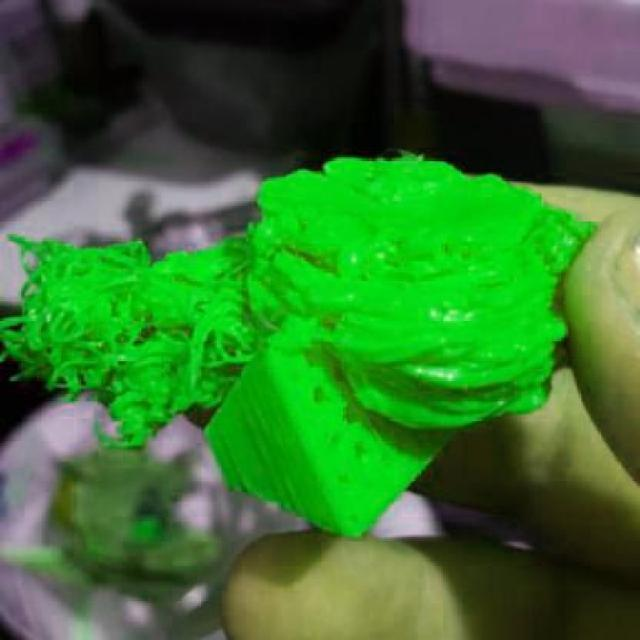Spaghetti: (5, 228, 254, 448)
